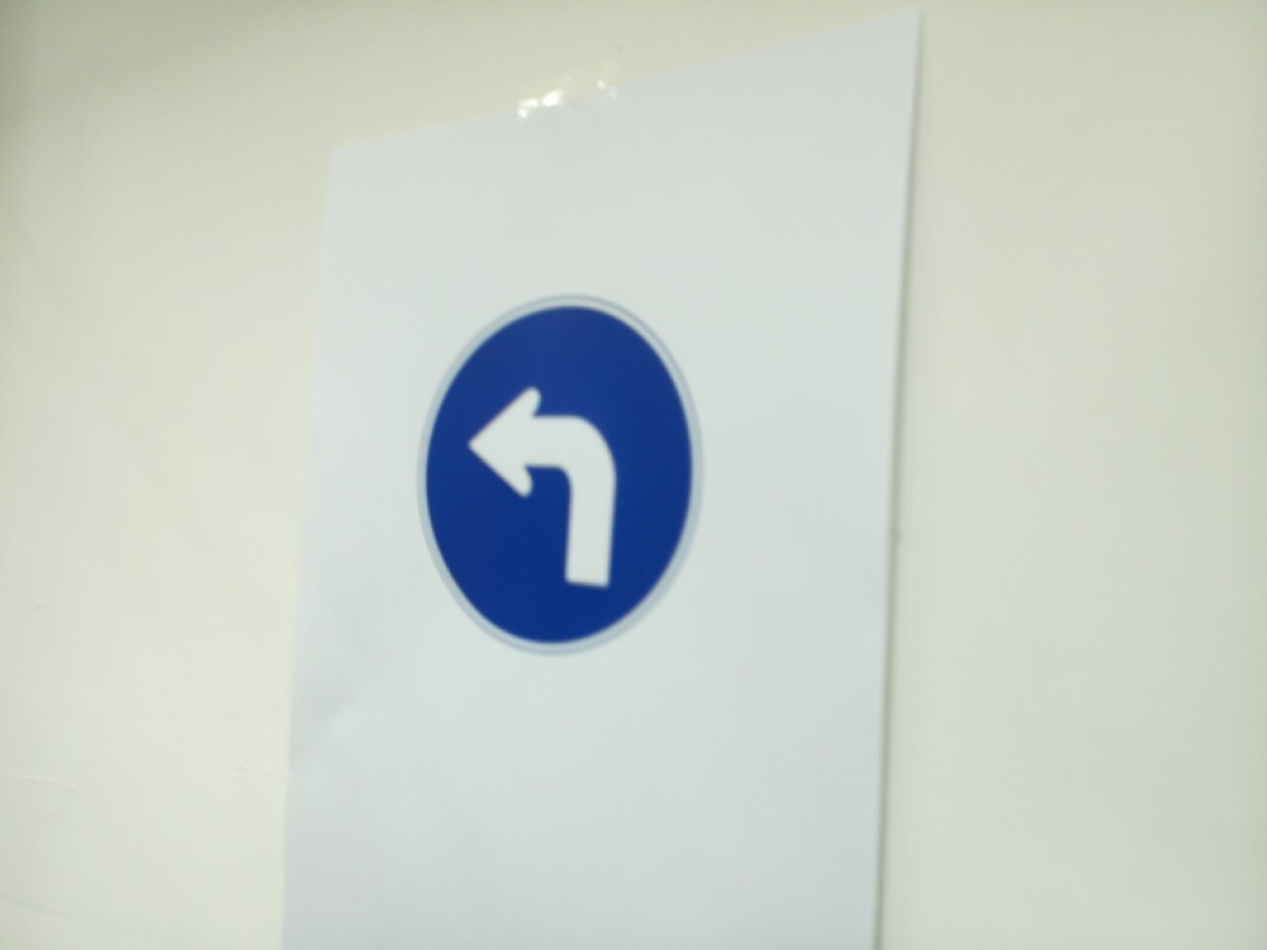left_turn: (417, 295, 702, 655)
